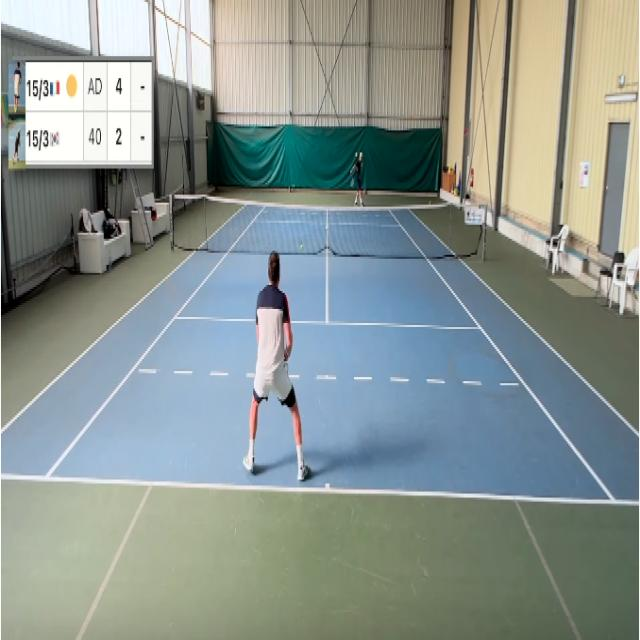ball: (300, 242, 303, 250)
